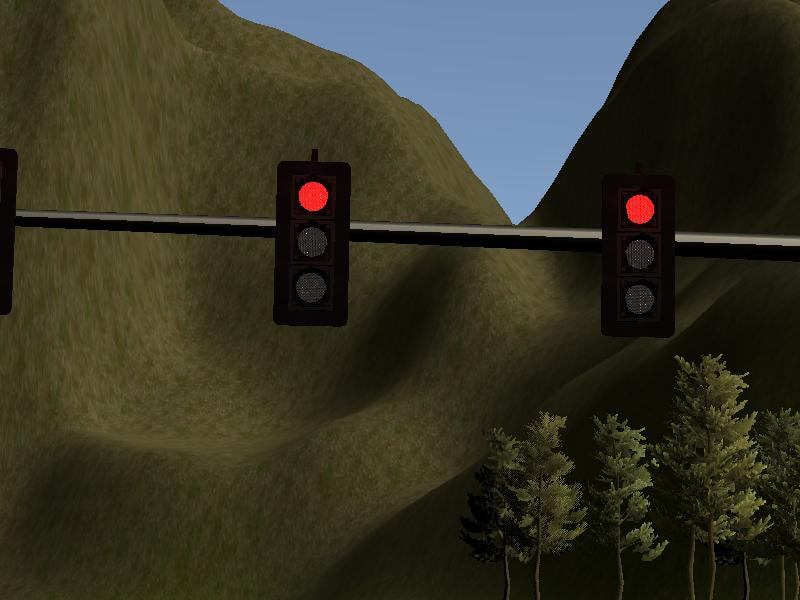red: (271, 162, 350, 328), (598, 173, 677, 339)
